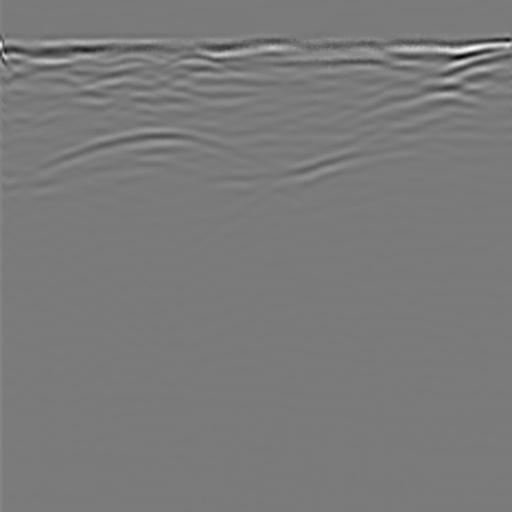hyperbola: (11, 115, 312, 206)
